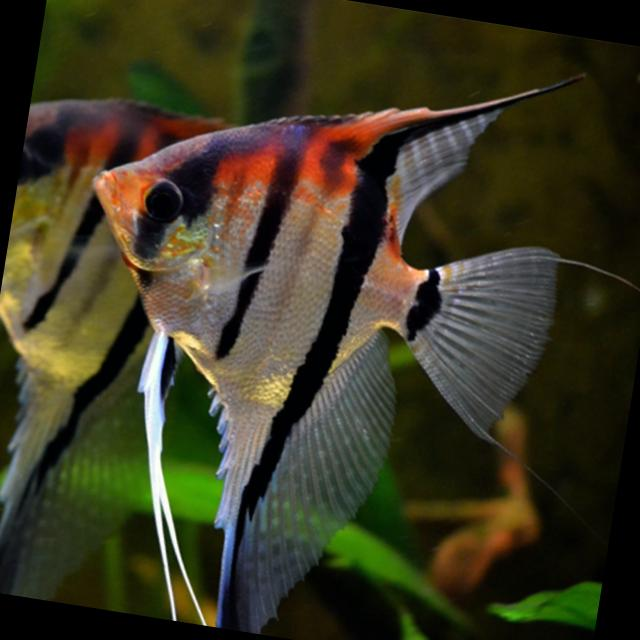AngelFish: (40, 6, 598, 640), (0, 86, 231, 613)
